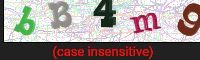4: (92, 1, 123, 30)
9: (176, 1, 200, 36)
B: (45, 1, 78, 34)
b: (13, 4, 39, 39)
m: (125, 9, 166, 35)
